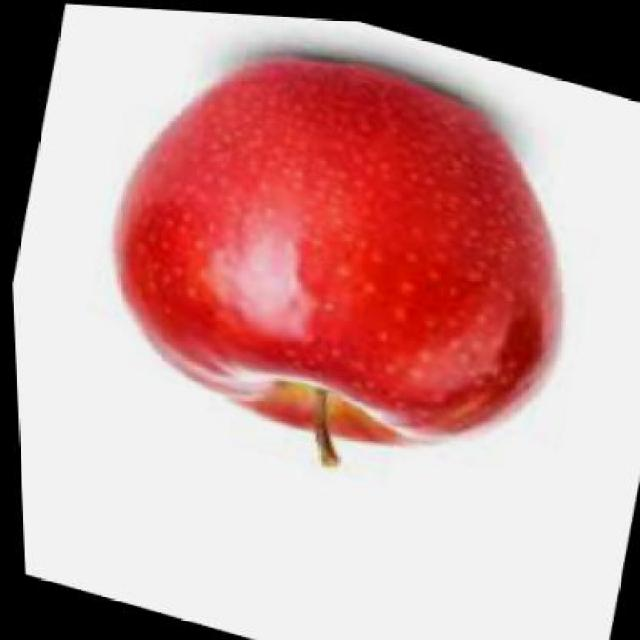Fresh Apple: (138, 61, 552, 452)
